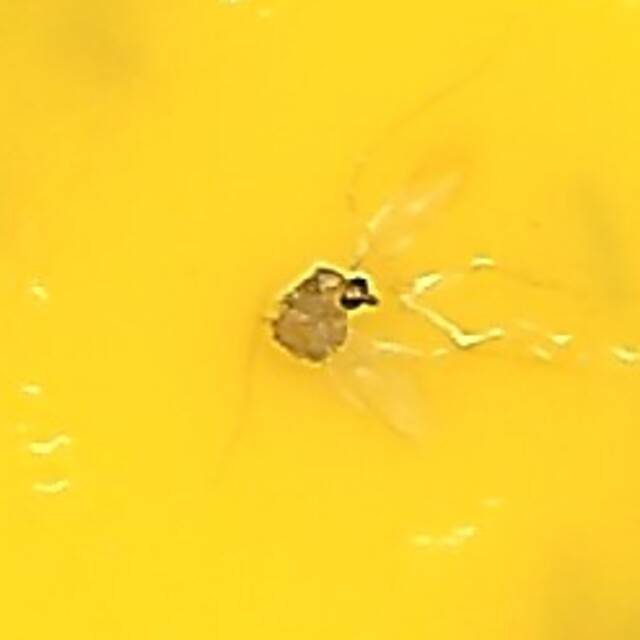Nematocera: (259, 256, 381, 384)
